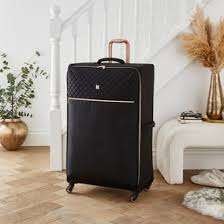suitcase: (60, 39, 158, 201)
